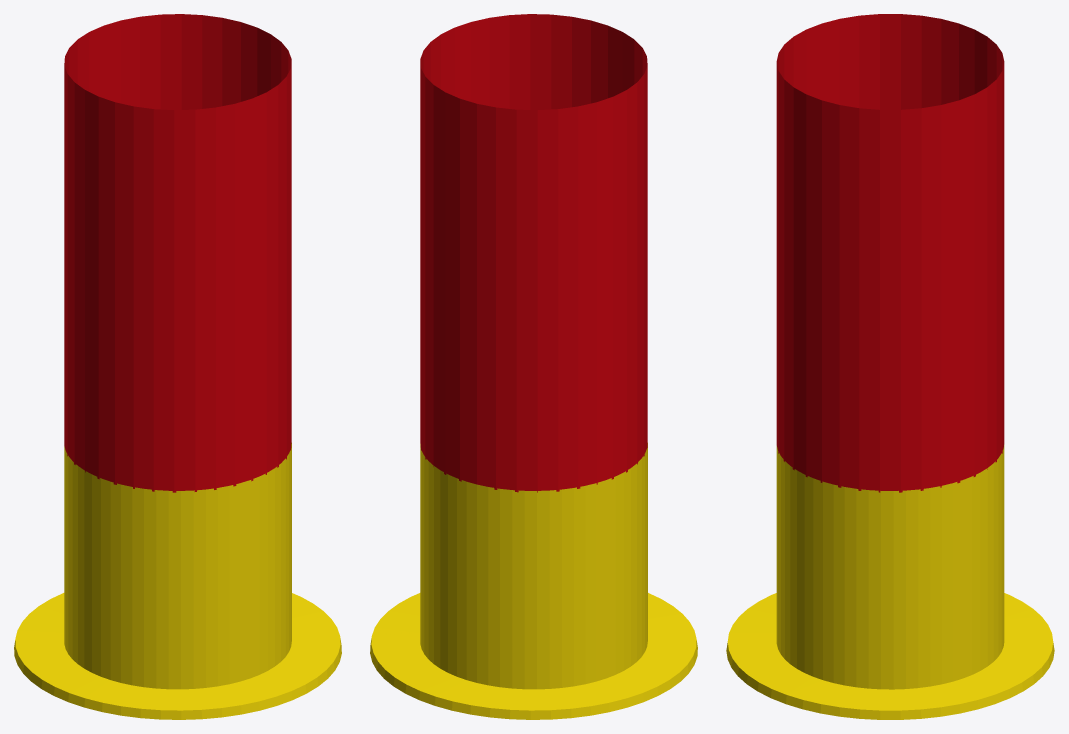
File: Shotgun_shell_red.fbx
3 views of the same model, side by side, from view 1: azimuth 30°, elevation 25°; view 2: azimuth 150°, elevation 25°; view 3: azimuth 270°, elevation 25° (orthographic).
Visible parts, largest first — view 1: Cylinder.002; view 2: Cylinder.002; view 3: Cylinder.002.
Boxes of the visible parts, left/top/right/bottom form: Cylinder.002: left=14, top=14, right=341, bottom=719; Cylinder.002: left=370, top=14, right=697, bottom=719; Cylinder.002: left=726, top=14, right=1054, bottom=719.
Bounding box in the file's own units: 299 × 593 × 300.
